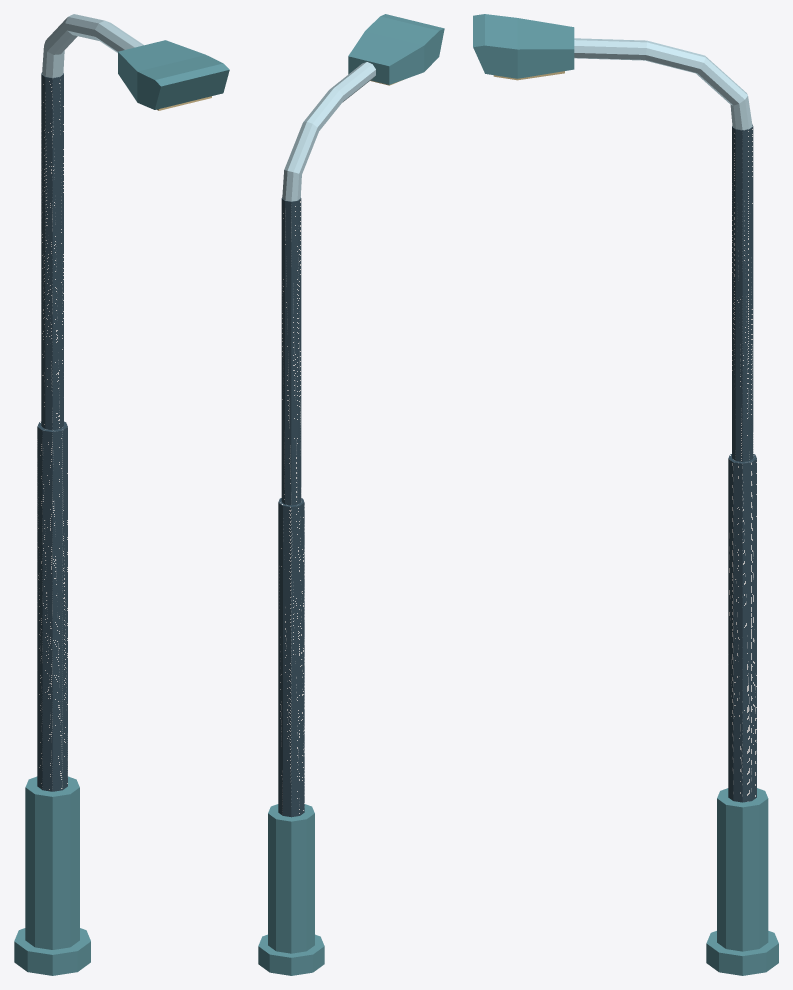
The model's file is streetlamp.fbx.
3 views of the same model, side by side, from view 1: azimuth 30°, elevation 25°; view 2: azimuth 150°, elevation 25°; view 3: azimuth 270°, elevation 25° (orthographic). The views are drawn at different scales.
Visible parts, largest first — view 1: Объект_Куб.068, Объект_Куб.044, Объект_Куб.069, Объект_Куб.055, Объект_Куб.056; view 2: Объект_Куб.068, Объект_Куб.044, Объект_Куб.069, Объект_Куб.055, Объект_Куб.056; view 3: Объект_Куб.044, Объект_Куб.068, Объект_Куб.069, Объект_Куб.055, Объект_Куб.056.
Boxes of the visible parts, x1,y1,x2,y2 form: Объект_Куб.068: (37,421,67,791); Объект_Куб.044: (14,776,90,975); Объект_Куб.069: (41,73,63,430); Объект_Куб.055: (118,40,229,110); Объект_Куб.056: (42,14,143,77); Объект_Куб.068: (278,498,304,817); Объект_Куб.044: (258,804,324,975); Объект_Куб.069: (281,197,301,505); Объект_Куб.055: (348,14,444,85); Объект_Куб.056: (282,62,375,201); Объект_Куб.044: (706,788,778,975); Объект_Куб.068: (728,454,756,802); Объект_Куб.069: (732,124,753,461); Объект_Куб.055: (473,14,574,80); Объект_Куб.056: (574,38,752,129).
Size of the model in its own units: 0.5227 by 7.19 by 2.14.
